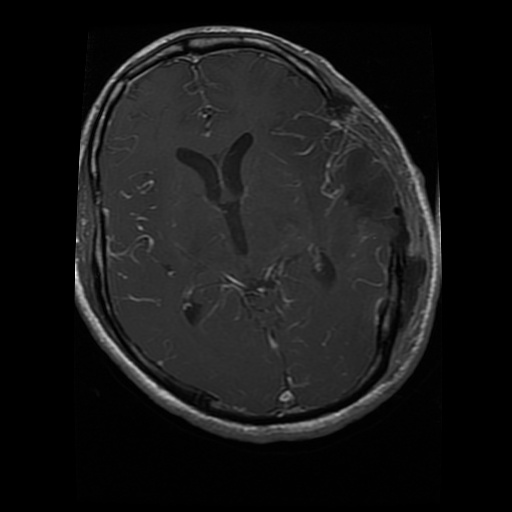glioma: (329, 142, 399, 221)
